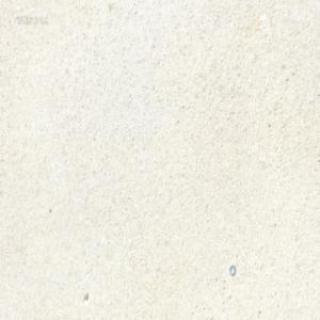Washertrack_idkeyframe: (228, 263, 235, 275)
